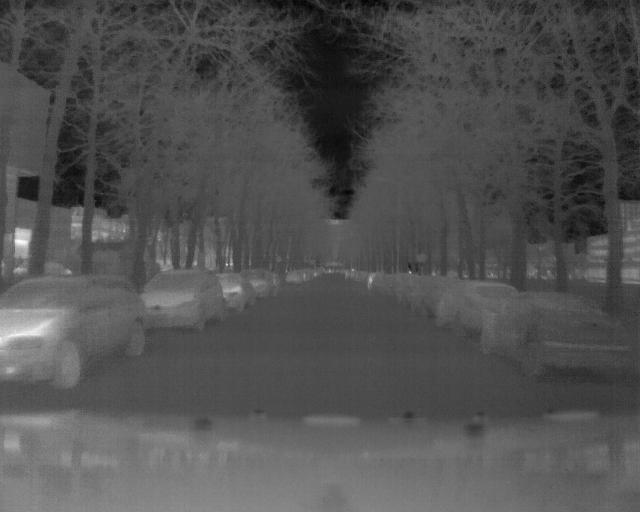car: (1, 265, 147, 390), (481, 289, 633, 384), (133, 262, 223, 336), (436, 280, 521, 342), (214, 264, 252, 314), (239, 265, 278, 301)
